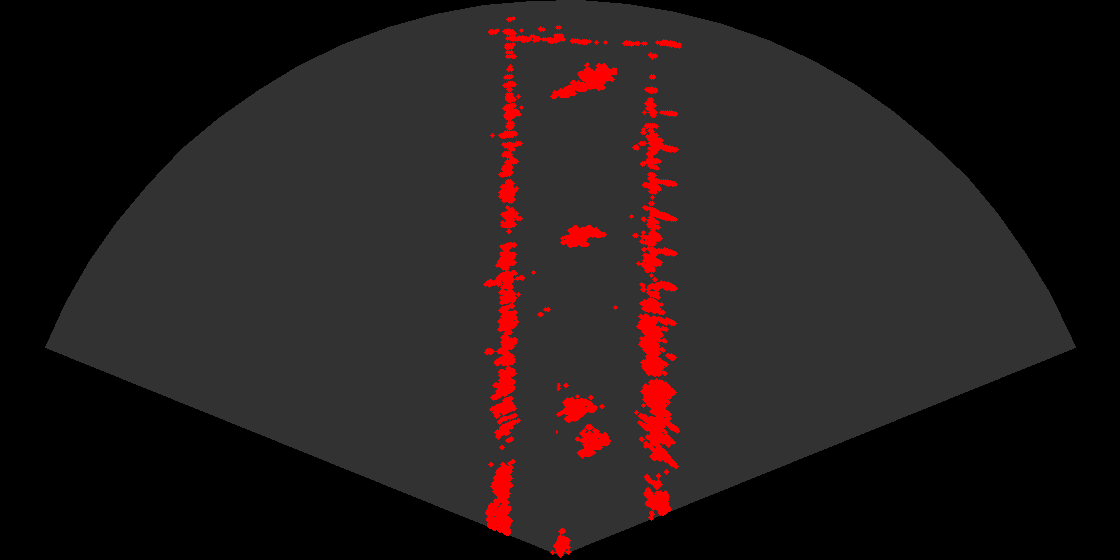AUV: (554, 223, 610, 255)
cage: (556, 383, 619, 467)
frogman: (549, 56, 617, 103)
